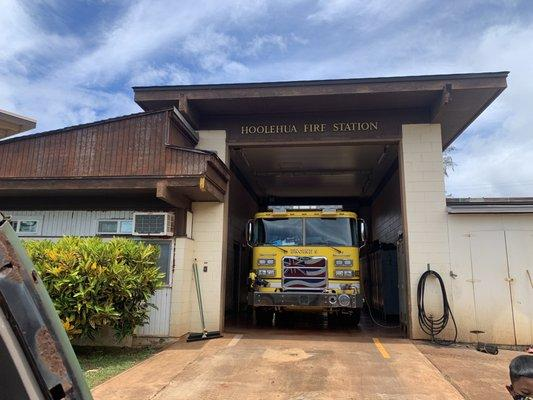firetruck_off: (245, 204, 370, 328)
